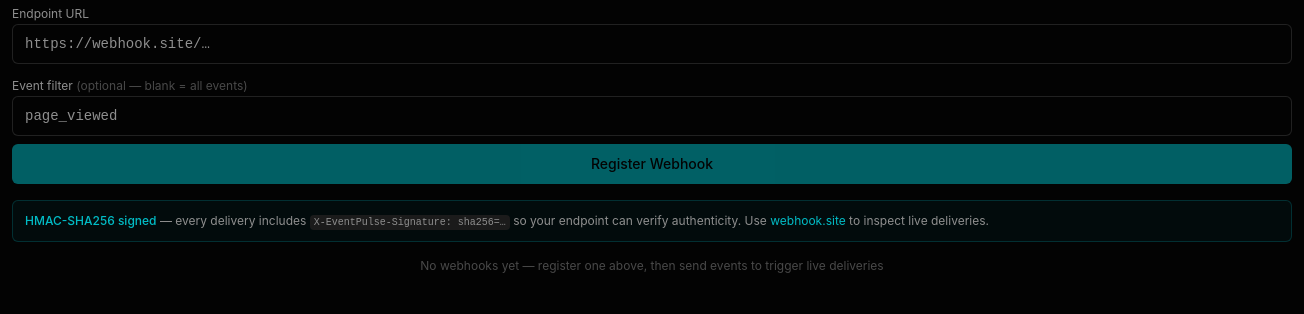
Test case: WebhookPanel › shows error alert when create fails
Step 1. Type "https://example.com/hook" into the field labelled "Endpoint URL" → (652, 44), box [12, 24, 1292, 64]
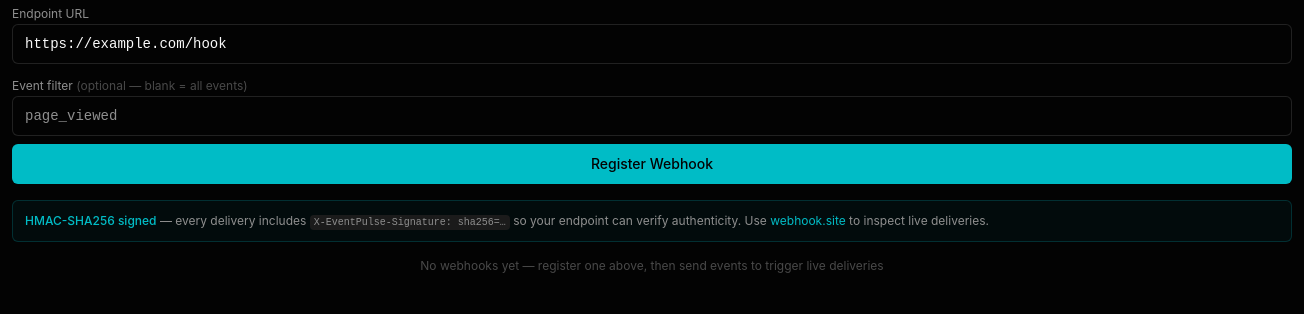
Step 2. Click the button "Register Webhook" → (652, 164), box [12, 144, 1292, 184]
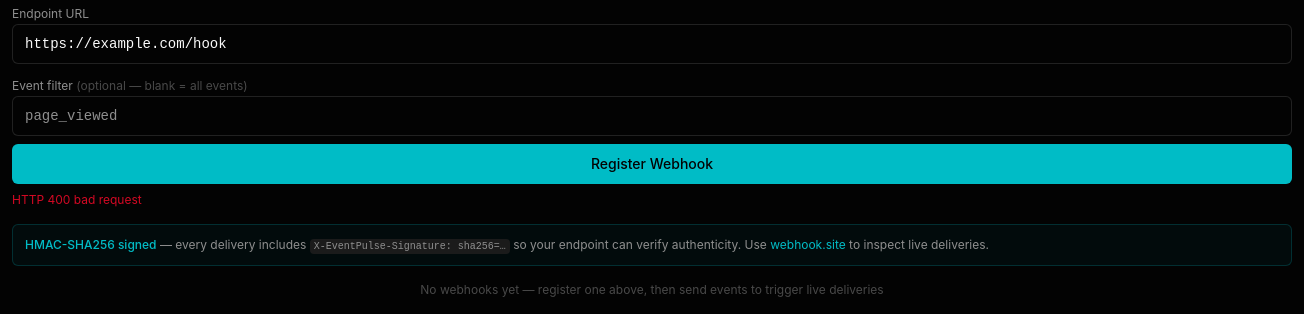
Check: the message "HTTP 400 bad request" is shown, box [12, 192, 142, 207]
